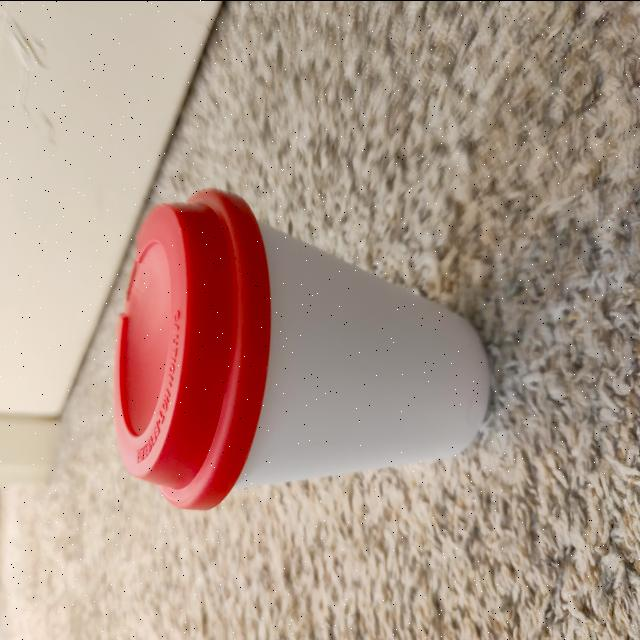mug: (123, 198, 489, 506)
